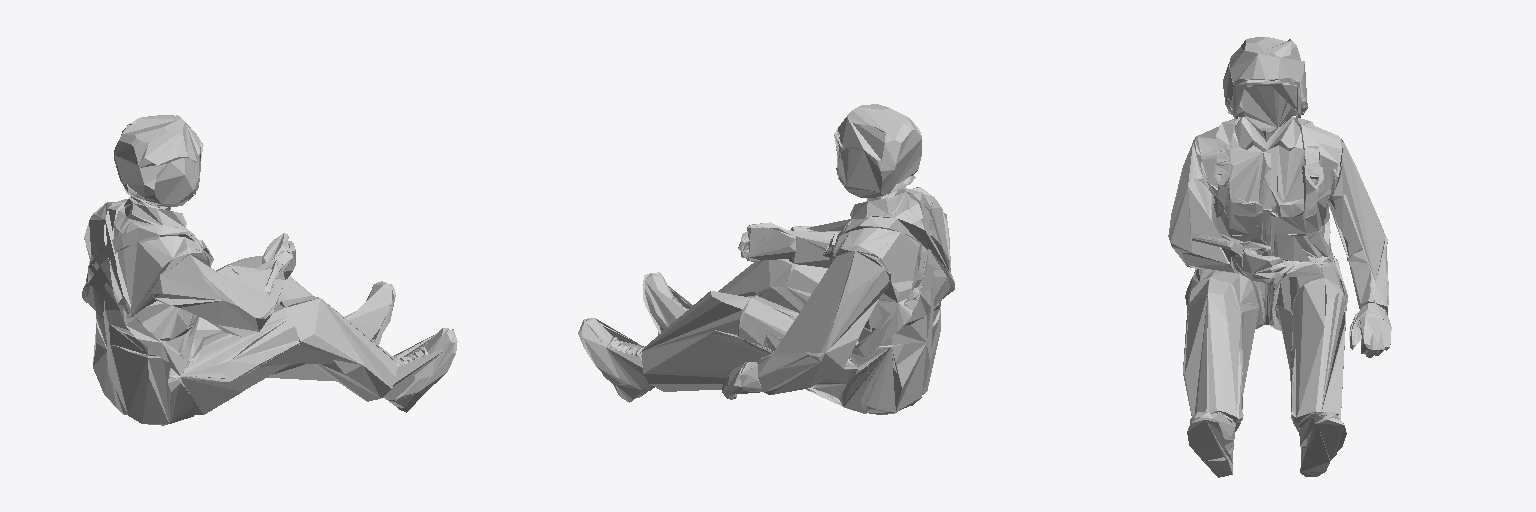
Rendered from body.obj.
The picture shows the model from 3 angles: view 1: azimuth 30°, elevation 25°; view 2: azimuth 150°, elevation 25°; view 3: azimuth 270°, elevation 25°; orthographic projection.
Parts seen in each view (by area): view 1: PILOT; view 2: PILOT; view 3: PILOT.
Boxes of the visible parts, x1,y1,x2,y2 form: PILOT: [82, 115, 457, 425]; PILOT: [578, 104, 954, 414]; PILOT: [1168, 37, 1391, 477].
Size of the model in its own units: 0.1452 by 0.1411 by 0.0874.